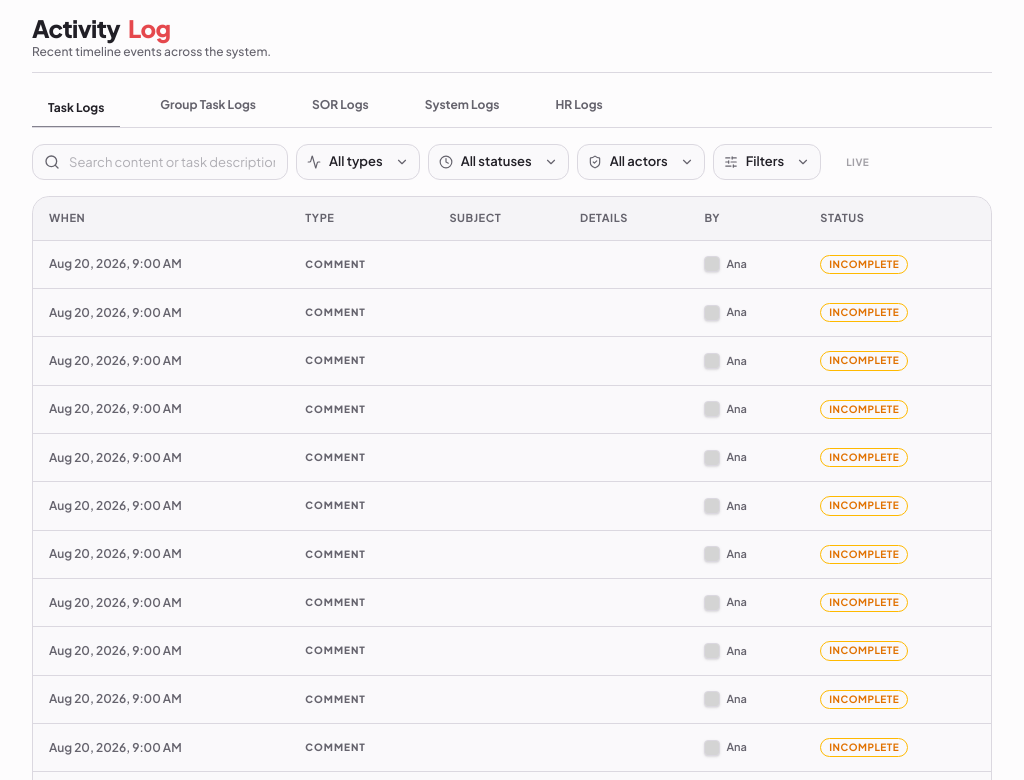
Test: Activity Log on PageShell › keeps the HR Logs tab, with its own one-line filter row
Click the tab "HR Logs" at (579, 108), box [539, 89, 619, 127]
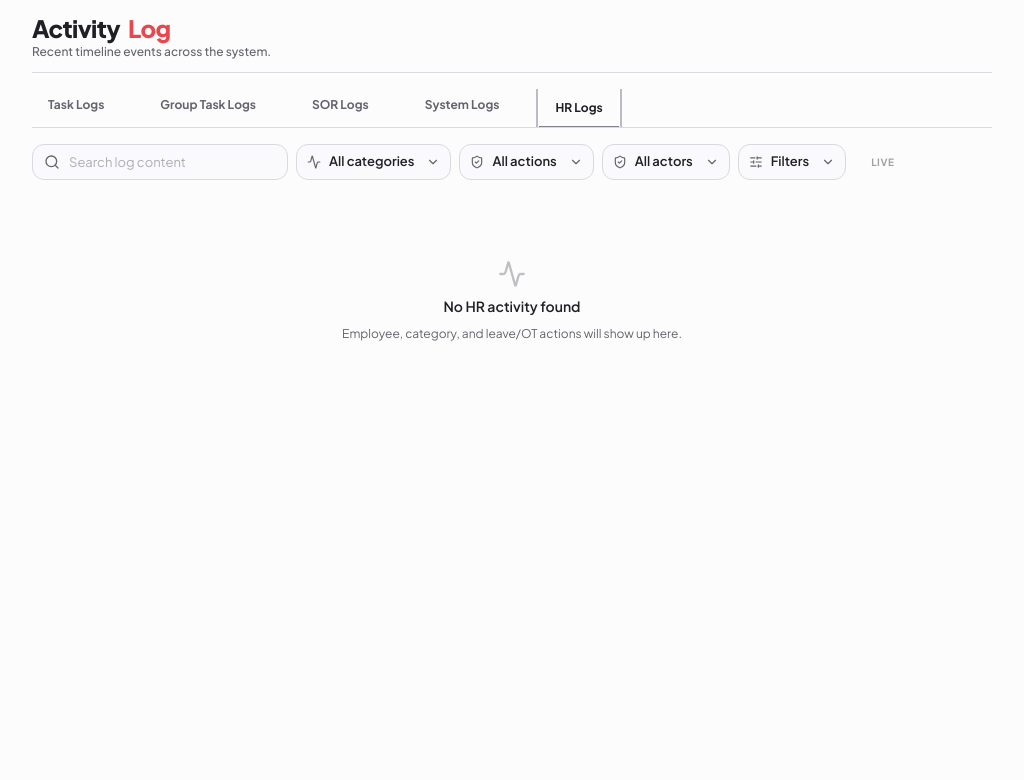
Now the text "No HR activity found" is shown, box [444, 296, 580, 316]
Now the field labelled "Search log content" is shown, box [32, 144, 288, 180]
